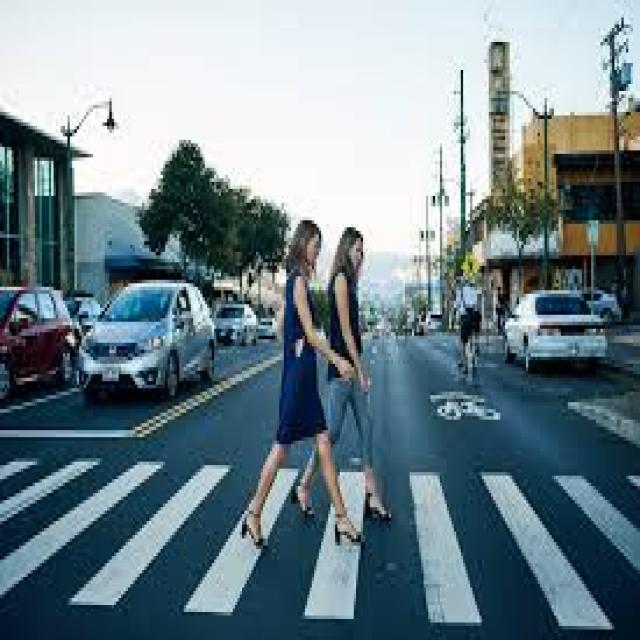Passenger Car: (79, 283, 217, 399), (505, 287, 610, 381), (2, 287, 77, 402), (214, 304, 258, 350)
Pedestrians: (235, 220, 365, 552), (326, 223, 398, 524)
